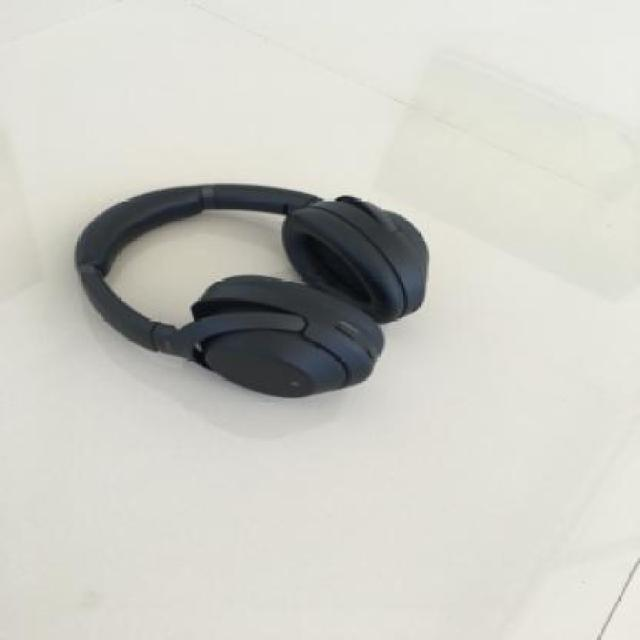earphone: (128, 125, 482, 430)
